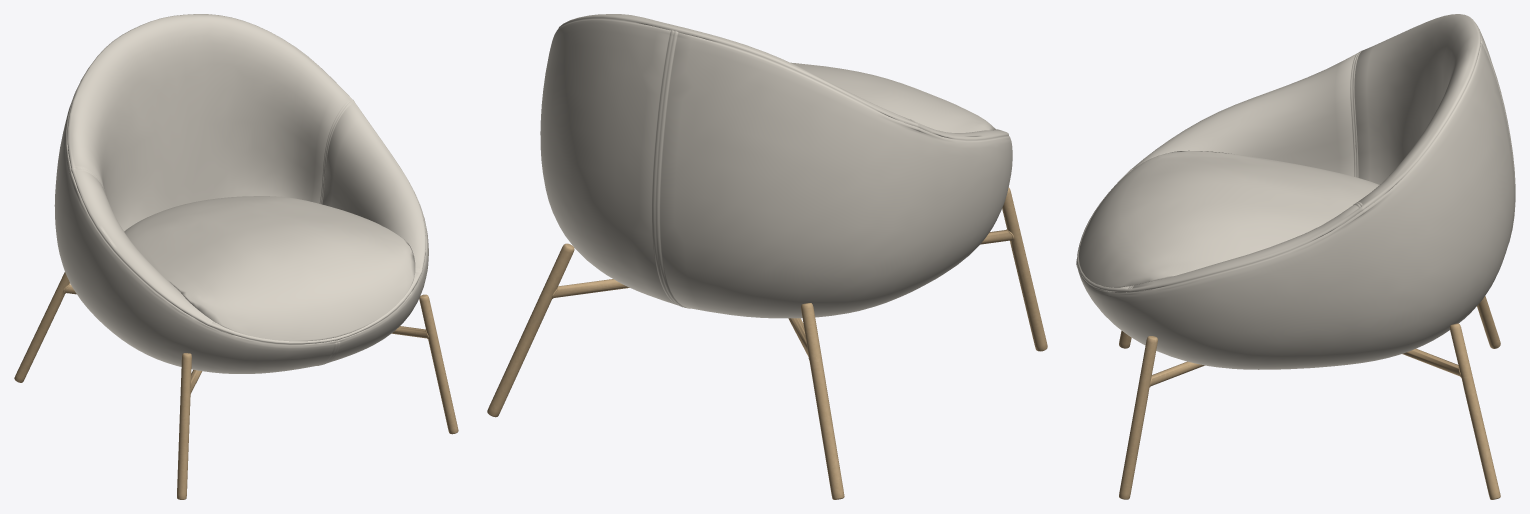
The model's file is lounge-chair.glb.
3 renders of one model, left to right at view 1: azimuth 30°, elevation 25°; view 2: azimuth 150°, elevation 25°; view 3: azimuth 270°, elevation 25°, orthographic. The views are drawn at different scales.
Parts seen in each view (by area): view 1: Seating_Lounge-Chairs_Soft-Fabric_01; view 2: Seating_Lounge-Chairs_Soft-Fabric_01; view 3: Seating_Lounge-Chairs_Soft-Fabric_01.
Boxes of the visible parts, left/top/right/bottom form: Seating_Lounge-Chairs_Soft-Fabric_01: left=14, top=14, right=458, bottom=499; Seating_Lounge-Chairs_Soft-Fabric_01: left=487, top=14, right=1047, bottom=499; Seating_Lounge-Chairs_Soft-Fabric_01: left=1076, top=14, right=1515, bottom=499.
Size of the model in its own units: 0.8442 by 0.8837 by 0.9141.
2 materials, 1 textured.
